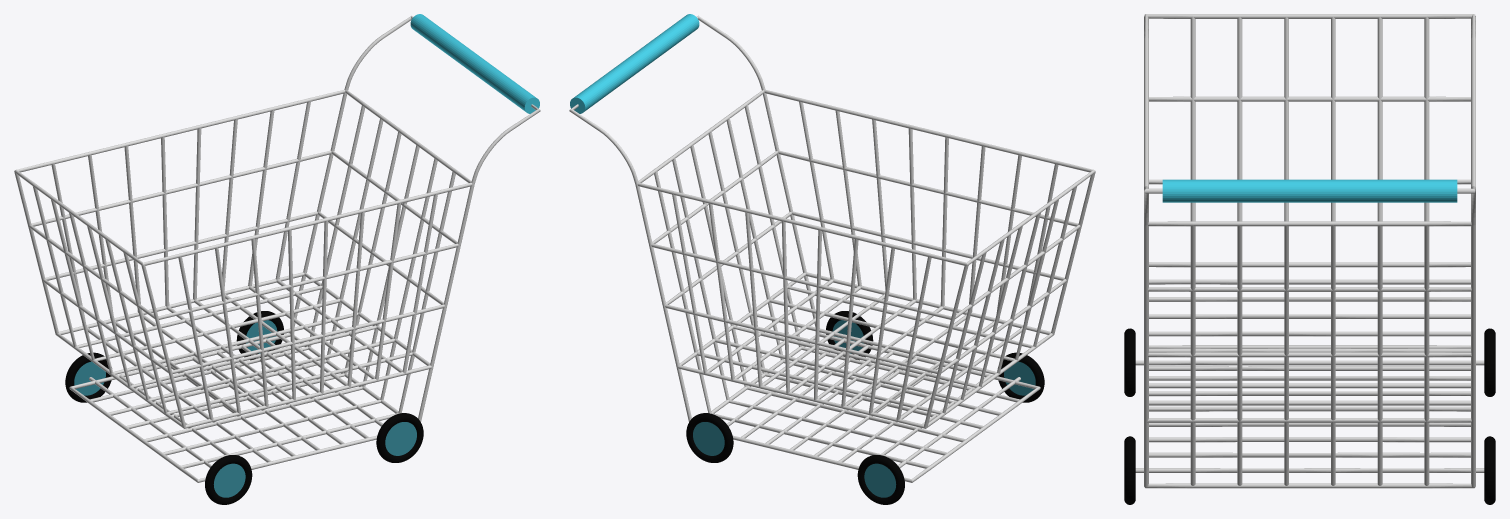
The model's file is shoping_cart.fbx.
3 views of the same model, side by side, from view 1: azimuth 30°, elevation 25°; view 2: azimuth 150°, elevation 25°; view 3: azimuth 270°, elevation 25° (orthographic). The views are drawn at different scales.
Visible parts, largest first — view 1: Cart; view 2: Cart; view 3: Cart.
Boxes of the visible parts, left/top/right/bottom form: Cart: left=14, top=14, right=540, bottom=504; Cart: left=569, top=14, right=1095, bottom=504; Cart: left=1124, top=14, right=1495, bottom=504.
Bounding box in the file's own units: 368 × 278 × 227.
